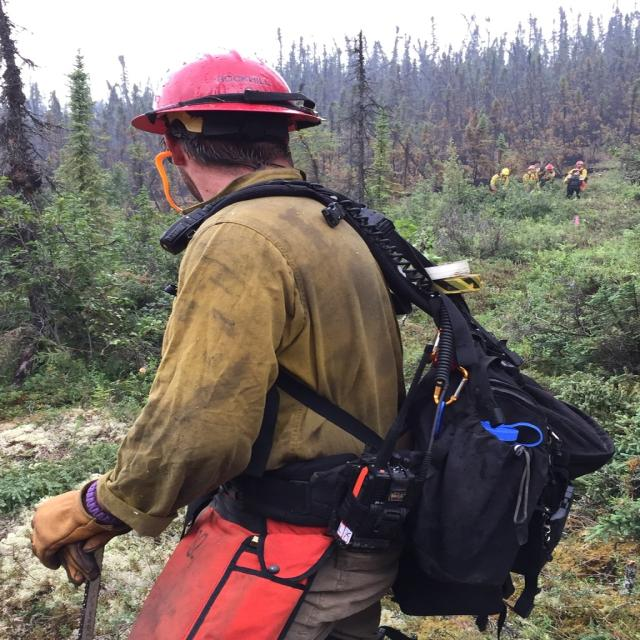backpack: (178, 183, 612, 631)
